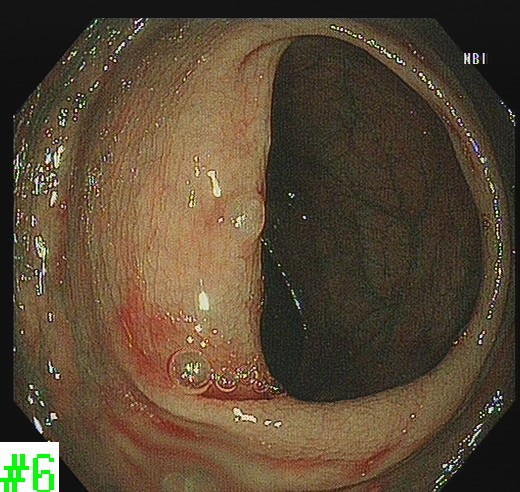others: (224, 191, 267, 243)
